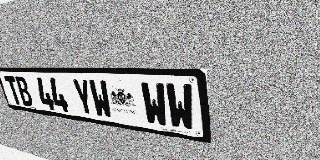4: (47, 78, 69, 112), (34, 77, 56, 110)
B: (14, 76, 34, 107)
T: (4, 76, 23, 105)
W: (165, 83, 196, 132), (140, 82, 169, 128), (88, 79, 114, 119)
Y: (71, 79, 96, 116)
